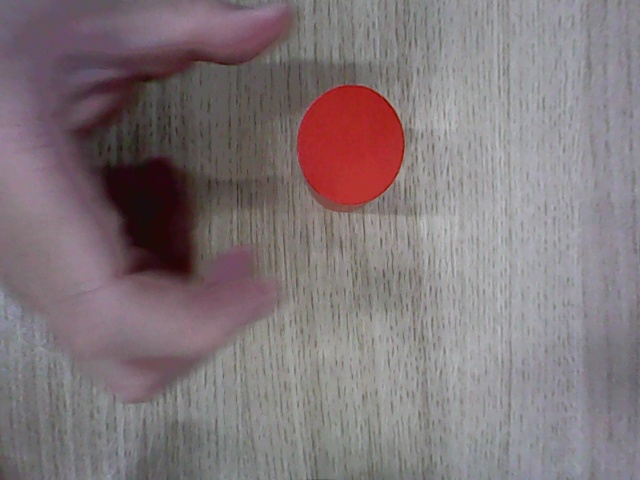upside of cylinder: (297, 84, 405, 206)
